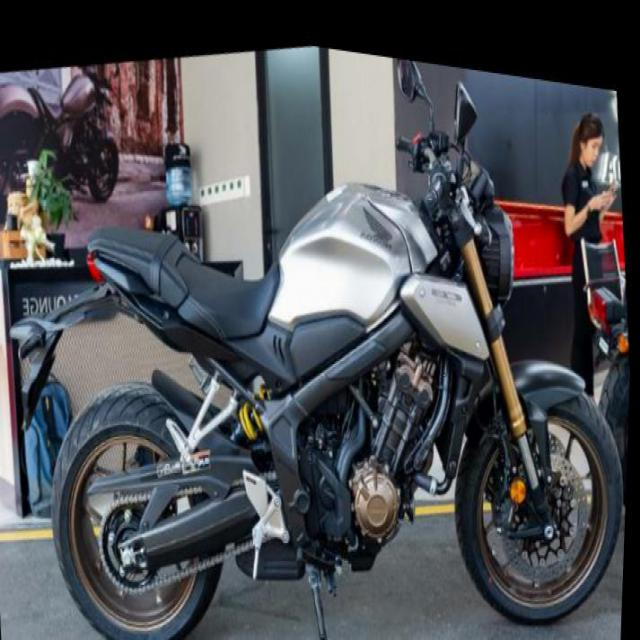CB650R: (26, 71, 637, 638)
